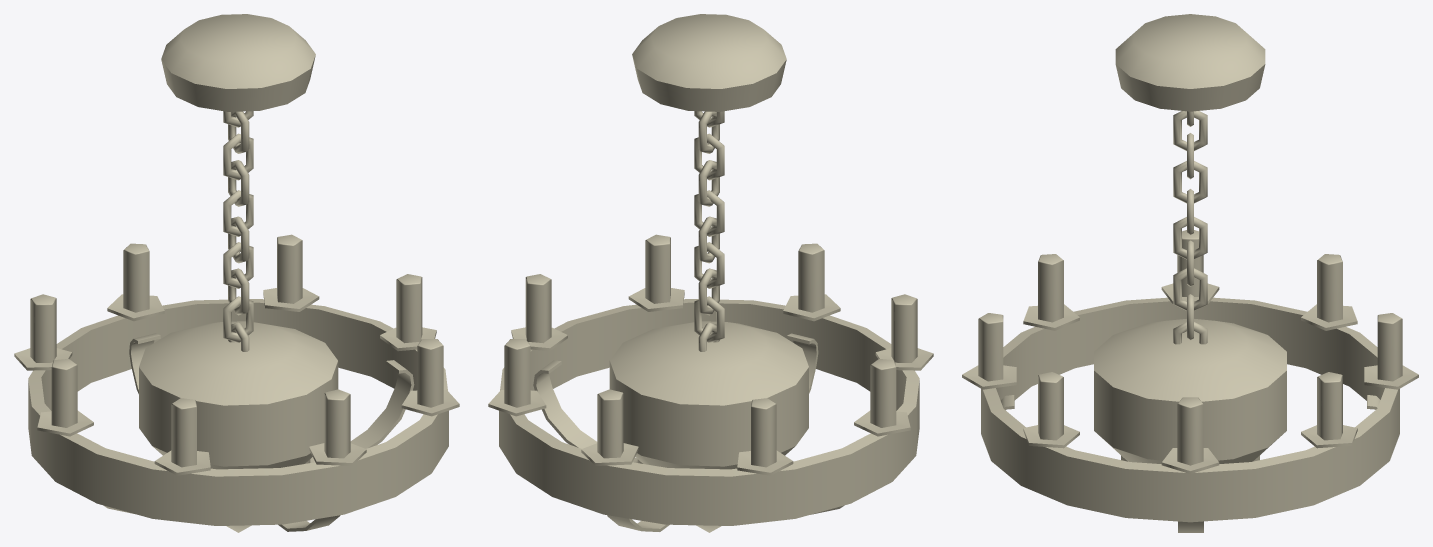
File: Chandalier.fbx
3 views of the same model, side by side, from view 1: azimuth 30°, elevation 25°; view 2: azimuth 150°, elevation 25°; view 3: azimuth 270°, elevation 25° (orthographic).
Visible parts, largest first — view 1: Chandalier; view 2: Chandalier; view 3: Chandalier.
Boxes of the visible parts, x1,y1,x2,y2 form: Chandalier: (14, 14, 459, 532); Chandalier: (488, 14, 933, 532); Chandalier: (962, 14, 1418, 532).
Size of the model in its own units: 1.59 by 1.89 by 1.59.
